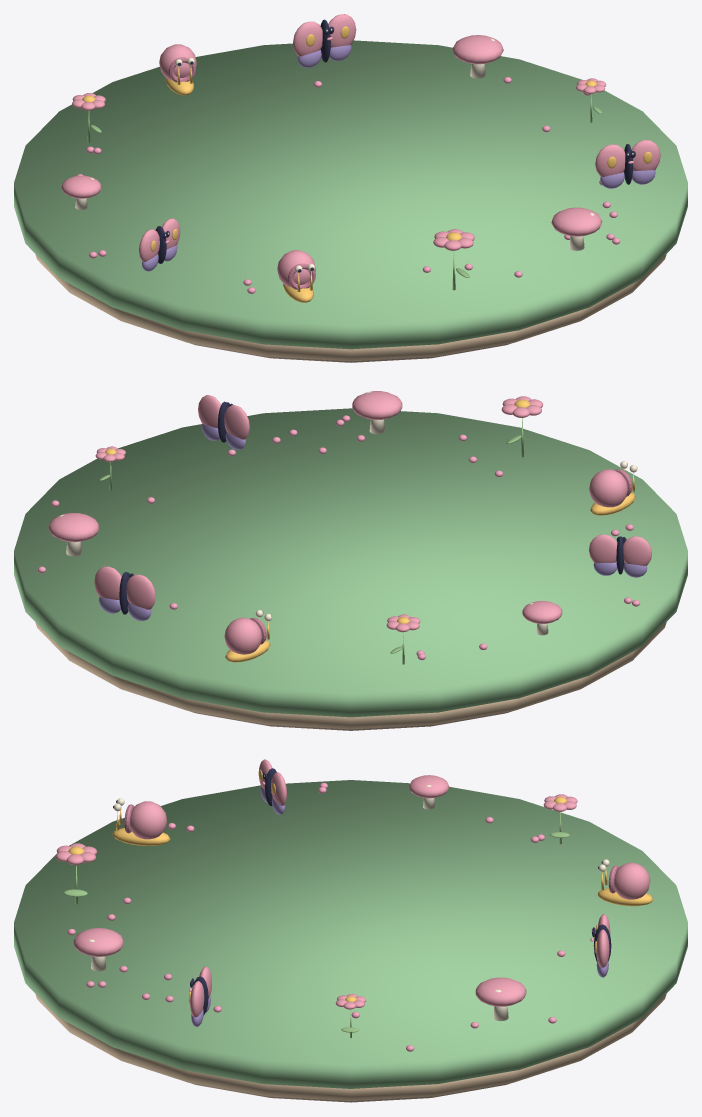
The model's file is world.glb.
The picture shows the model from 3 angles, top to bottom: view 1: azimuth 30°, elevation 25°; view 2: azimuth 150°, elevation 25°; view 3: azimuth 270°, elevation 25°; orthographic projection.
Parts seen in each view (by area): view 1: Cone, Cone.001, butterfly.001, butterfly.003, snail.002, butterfly.002, snail.001, mushroom.001, mushroom.003, flower.003, mushroom.002, flower.002 (+1 smaller); view 2: Cone, Cone.001, butterfly.001, butterfly.002, butterfly.003, snail.002, snail.001, mushroom.001, mushroom.003, mushroom.002, flower.003, flower.002 (+1 smaller); view 3: Cone, Cone.001, snail.002, snail.001, mushroom.001, mushroom.003, butterfly.002, butterfly.003, flower.003, butterfly.001, mushroom.002, flower.002 (+1 smaller).
Part boxes in pixels (x1=…): Cone: x1=14, y1=40, x2=687, y2=349; Cone.001: x1=35, y1=254, x2=666, y2=361; butterfly.001: x1=293, y1=14, x2=356, y2=67; butterfly.003: x1=595, y1=140, x2=660, y2=188; snail.002: x1=277, y1=250, x2=315, y2=302; butterfly.002: x1=139, y1=218, x2=180, y2=271; snail.001: x1=159, y1=44, x2=196, y2=95; mushroom.001: x1=452, y1=35, x2=503, y2=78; mushroom.003: x1=551, y1=207, x2=602, y2=250; flower.003: x1=433, y1=229, x2=474, y2=290; mushroom.002: x1=61, y1=175, x2=101, y2=209; flower.002: x1=72, y1=93, x2=105, y2=142; Cone: x1=14, y1=408, x2=687, y2=717; Cone.001: x1=35, y1=622, x2=666, y2=729; butterfly.001: x1=94, y1=566, x2=155, y2=621; butterfly.002: x1=589, y1=534, x2=652, y2=577; butterfly.003: x1=198, y1=395, x2=249, y2=449; snail.002: x1=589, y1=461, x2=637, y2=515; snail.001: x1=224, y1=610, x2=271, y2=662; mushroom.001: x1=48, y1=513, x2=99, y2=556; mushroom.003: x1=352, y1=391, x2=402, y2=434; mushroom.002: x1=522, y1=601, x2=562, y2=635; flower.003: x1=501, y1=396, x2=543, y2=457; flower.002: x1=386, y1=614, x2=420, y2=664; Cone: x1=14, y1=780, x2=687, y2=1088; Cone.001: x1=35, y1=994, x2=666, y2=1100; snail.002: x1=112, y1=798, x2=170, y2=845; snail.001: x1=597, y1=859, x2=653, y2=906; mushroom.001: x1=475, y1=977, x2=526, y2=1021; mushroom.003: x1=73, y1=928, x2=123, y2=971; butterfly.002: x1=258, y1=759, x2=286, y2=814; butterfly.003: x1=189, y1=966, x2=211, y2=1026; flower.003: x1=55, y1=843, x2=97, y2=904; butterfly.001: x1=590, y1=914, x2=611, y2=977; mushroom.002: x1=408, y1=775, x2=449, y2=809; flower.002: x1=543, y1=794, x2=577, y2=844.
Size of the model in its own units: 9.6 by 1.68 by 9.6.
